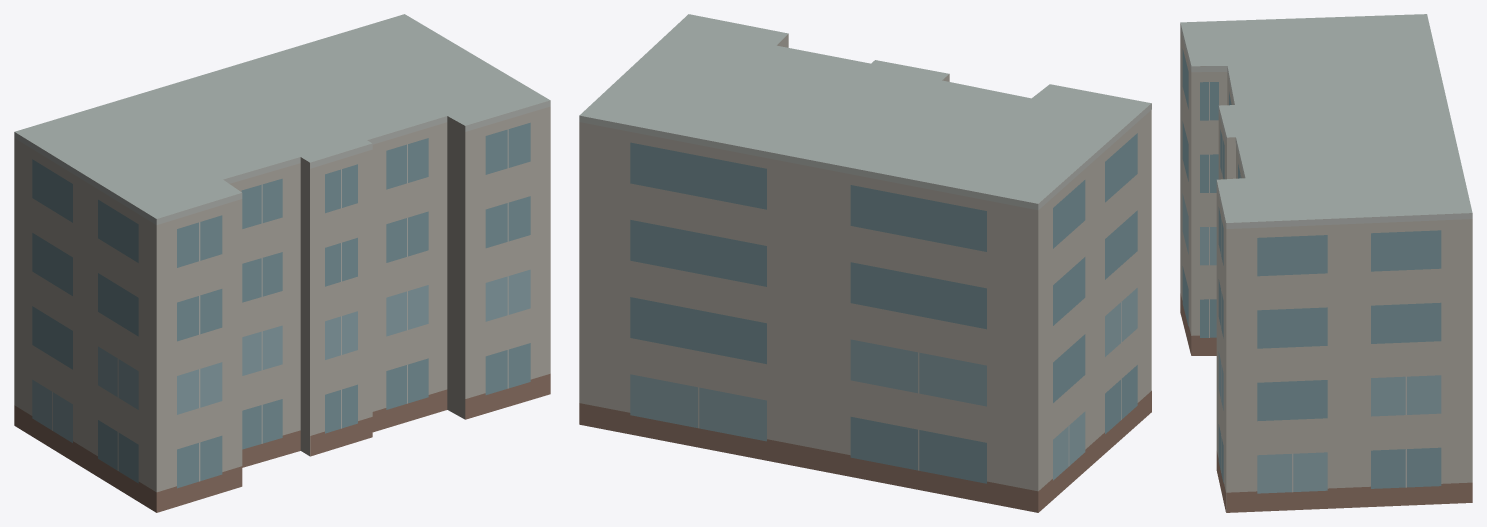
File: survey-upis-32982554.glb
3 renders of one model, left to right at view 1: azimuth 30°, elevation 25°; view 2: azimuth 150°, elevation 25°; view 3: azimuth 270°, elevation 25°, orthographic. The views are drawn at different scales.
Visible parts, largest first — view 1: survey-upis-32982554.tmp; view 2: survey-upis-32982554.tmp; view 3: survey-upis-32982554.tmp.
Boxes of the visible parts, left/top/right/bottom form: survey-upis-32982554.tmp: left=14, top=14, right=550, bottom=512; survey-upis-32982554.tmp: left=579, top=14, right=1151, bottom=512; survey-upis-32982554.tmp: left=1180, top=14, right=1472, bottom=512.
Size of the model in its own units: 18.11 by 11.7 by 10.7.
